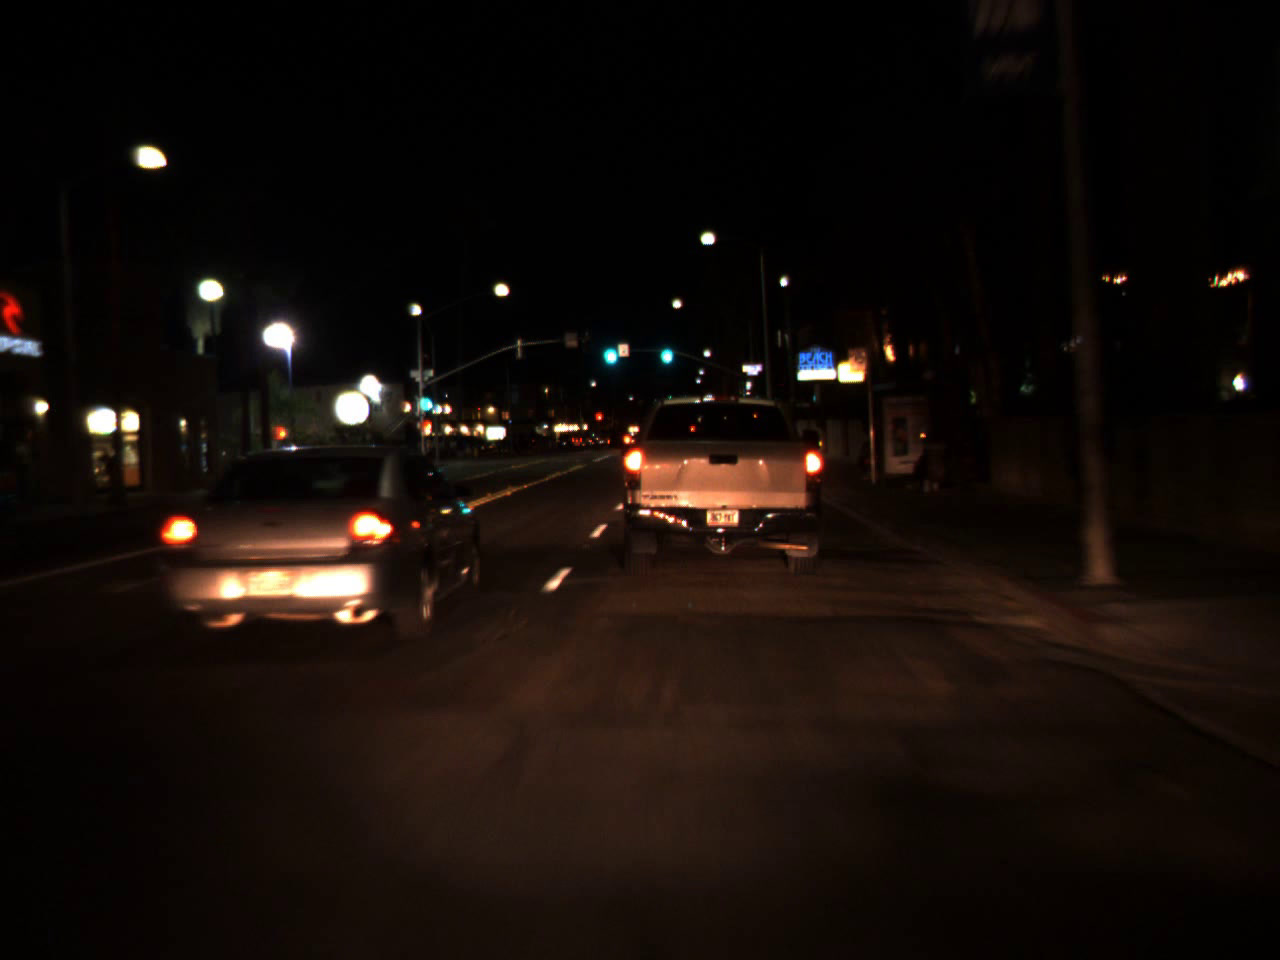go: (599, 330, 620, 369), (414, 380, 435, 416), (657, 332, 675, 368)
